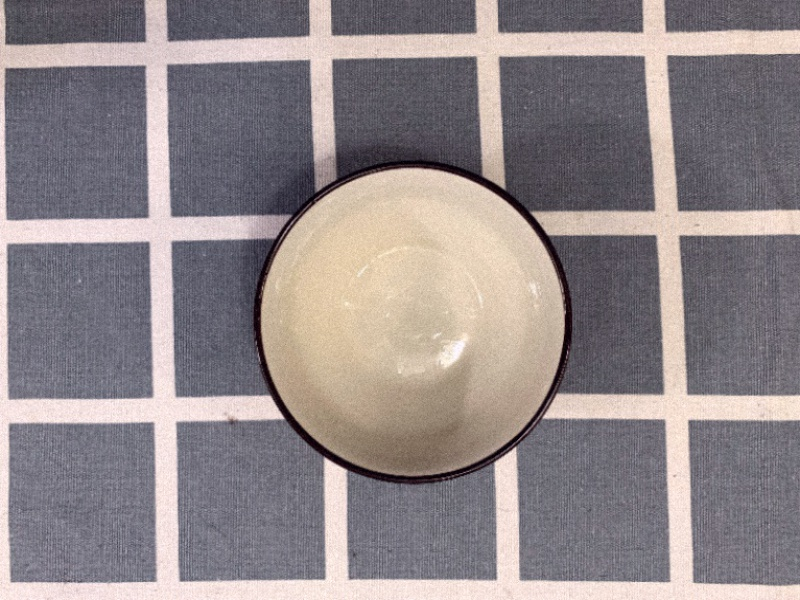bowl_small: (242, 148, 583, 491)
